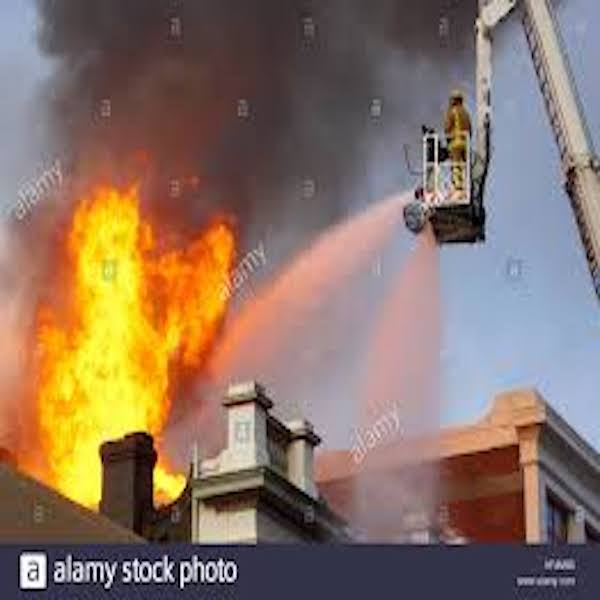fire: (22, 200, 222, 428), (39, 432, 102, 503)
